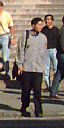person: (19, 17, 48, 121)
